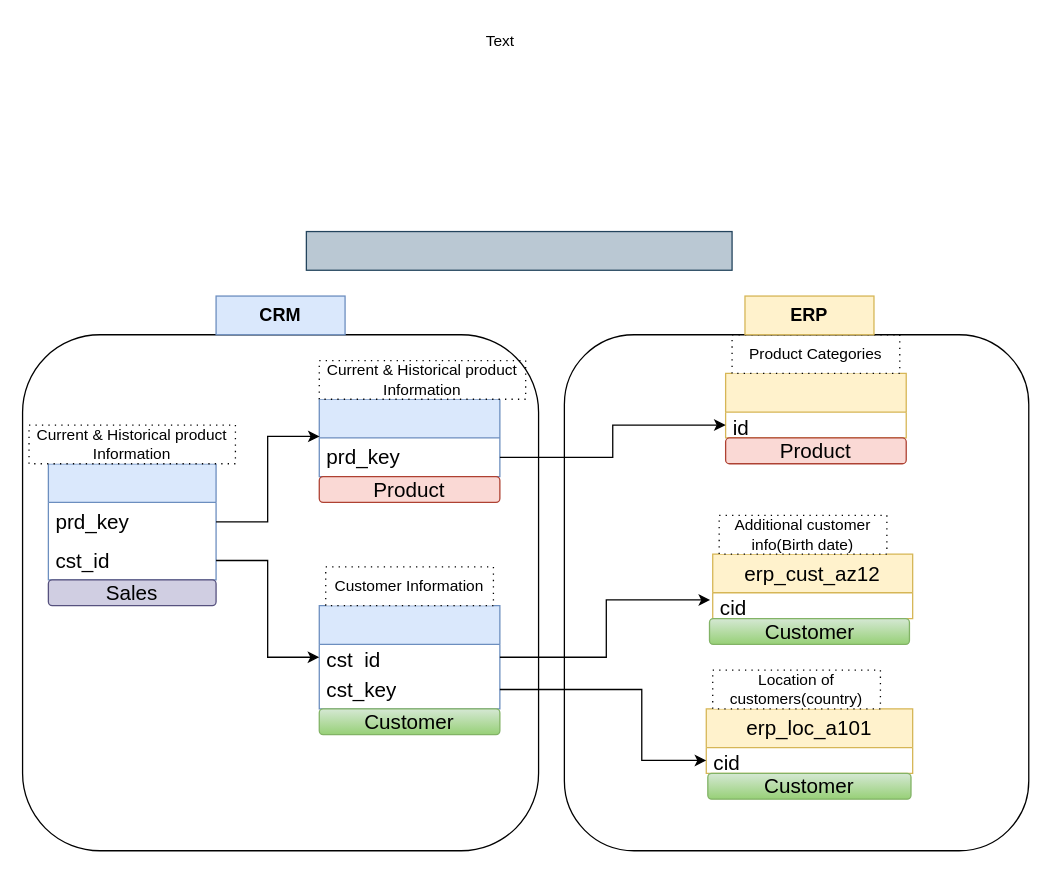
The diagram is 1051 pixels wide and 884 high, and some of its shapes have lost their labels. The shapes that lost their labels are listed below. From the top down, each one's box as (x1, y1, x2, y2) in pixels, then its label:
(305, 230, 732, 270): Data Integration
(724, 372, 906, 438): erp_px_cat_g1v2
(318, 398, 500, 477): crm_prd_info
(47, 462, 216, 580): crm_sales_details
(318, 604, 500, 709): crm_cust_info
